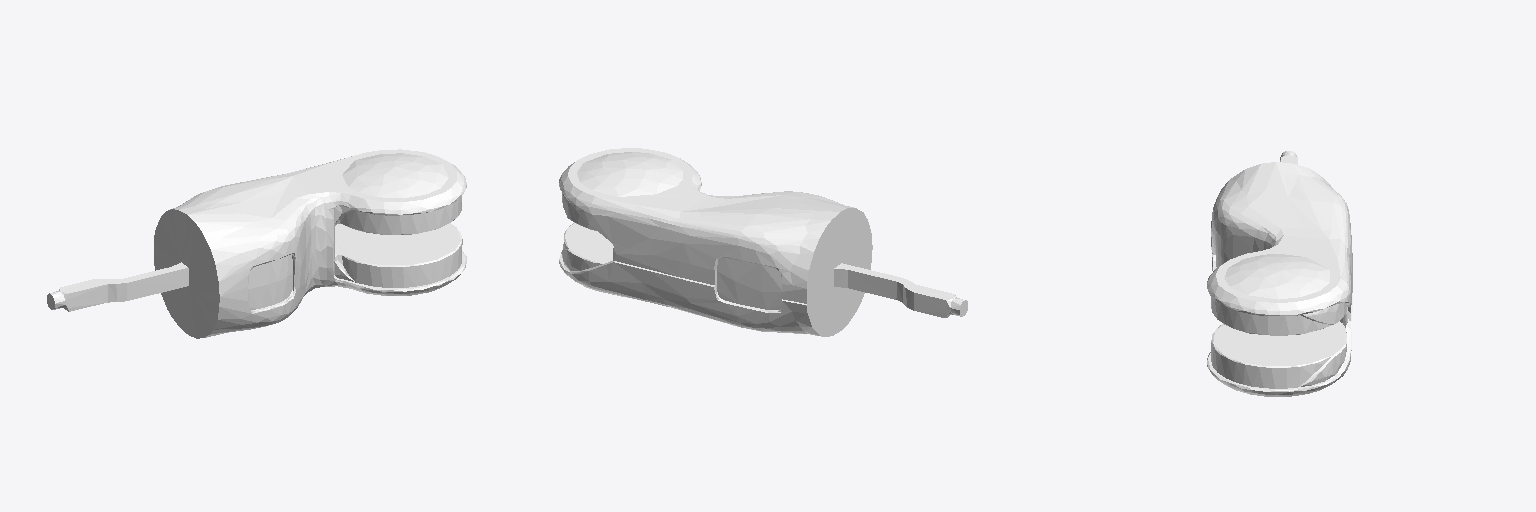
The model's file is upper_arm.obj.
The picture shows the model from 3 angles: view 1: azimuth 30°, elevation 25°; view 2: azimuth 150°, elevation 25°; view 3: azimuth 270°, elevation 25°; orthographic projection.
Bounding box in the file's own units: 5.35 × 1.52 × 1.69.